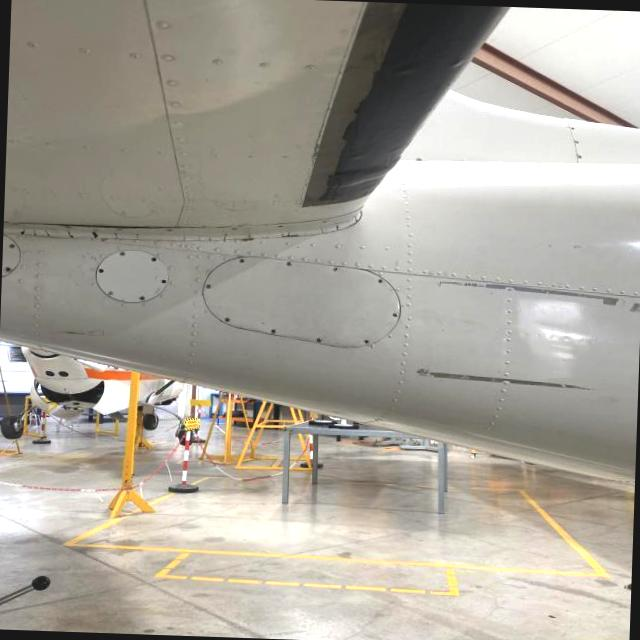Missing Fastener: (3, 265, 11, 270), (96, 267, 103, 272), (269, 327, 275, 332), (362, 338, 368, 343), (376, 277, 382, 282), (159, 278, 166, 282), (223, 316, 229, 320), (150, 256, 155, 260), (238, 257, 243, 261), (570, 126, 574, 129)
